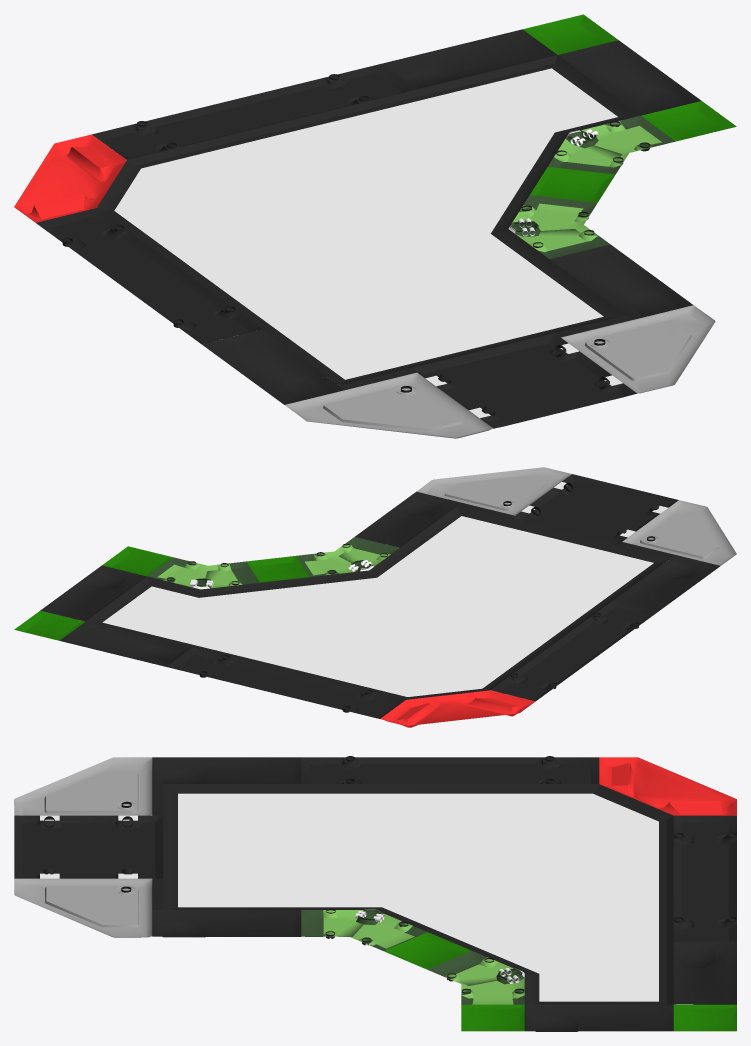
The model's file is Building_B_Staircase_C_Ceiling_A.fbx.
3 renders of one model, top to bottom at view 1: azimuth 30°, elevation 25°; view 2: azimuth 150°, elevation 25°; view 3: azimuth 270°, elevation 25°, orthographic. The views are drawn at different scales.
Visible parts, largest first — view 1: Geom_Building_B_Staircase_C_Ceiling_A_LOD00; view 2: Geom_Building_B_Staircase_C_Ceiling_A_LOD00; view 3: Geom_Building_B_Staircase_C_Ceiling_A_LOD00.
Boxes of the visible parts, x1,y1,x2,y2 form: Geom_Building_B_Staircase_C_Ceiling_A_LOD00: (14, 14, 736, 438); Geom_Building_B_Staircase_C_Ceiling_A_LOD00: (14, 467, 736, 727); Geom_Building_B_Staircase_C_Ceiling_A_LOD00: (14, 756, 736, 1031).
Size of what is drawn, in the model's own units: 1740 by 35.61 by 1941.
